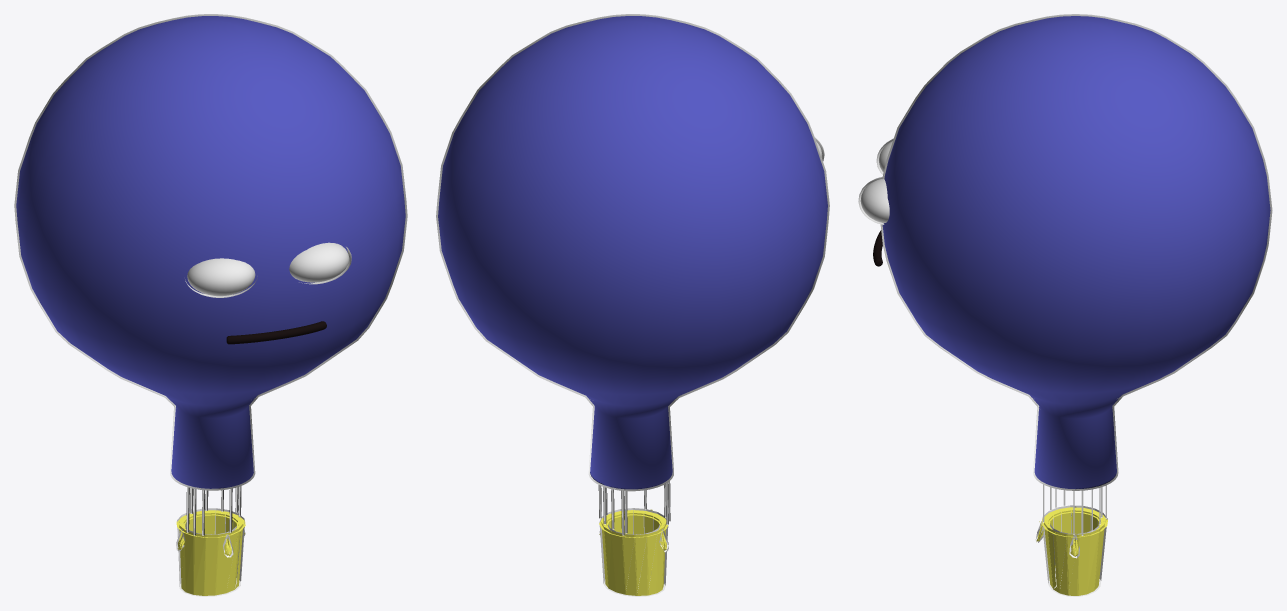
The model's file is balloon.glb.
3 views of the same model, side by side, from view 1: azimuth 30°, elevation 25°; view 2: azimuth 150°, elevation 25°; view 3: azimuth 270°, elevation 25° (orthographic).
Parts seen in each view (by area): view 1: Sphere, Sphere.001, Sphere.002, BezierCurve; view 2: Sphere; view 3: Sphere, Sphere.002.
Boxes of the visible parts, bbox=[...] form: Sphere: bbox=[14, 14, 407, 596]; Sphere.001: bbox=[185, 258, 257, 297]; Sphere.002: bbox=[289, 242, 351, 284]; BezierCurve: bbox=[226, 321, 326, 344]; Sphere: bbox=[436, 14, 829, 596]; Sphere: bbox=[880, 14, 1272, 596]; Sphere.002: bbox=[858, 176, 889, 224].
Size of the model in its own units: 3.64 by 5.64 by 3.84.
7 materials, 1 textured.
